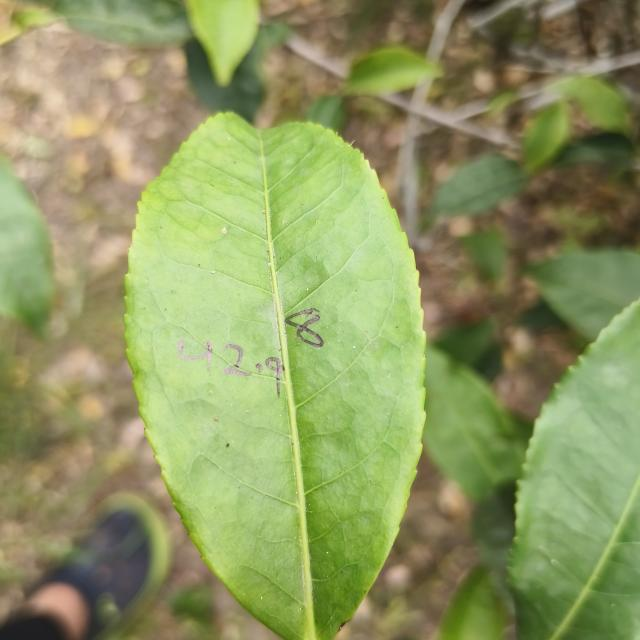Leaf: (124, 114, 425, 640), (509, 301, 640, 640), (422, 345, 528, 500), (526, 249, 640, 340), (0, 158, 53, 334), (53, 0, 191, 47), (186, 0, 259, 86), (429, 154, 527, 215), (438, 566, 506, 640), (346, 46, 441, 95), (556, 76, 629, 133), (523, 101, 570, 170), (434, 319, 495, 364), (307, 95, 346, 132)
